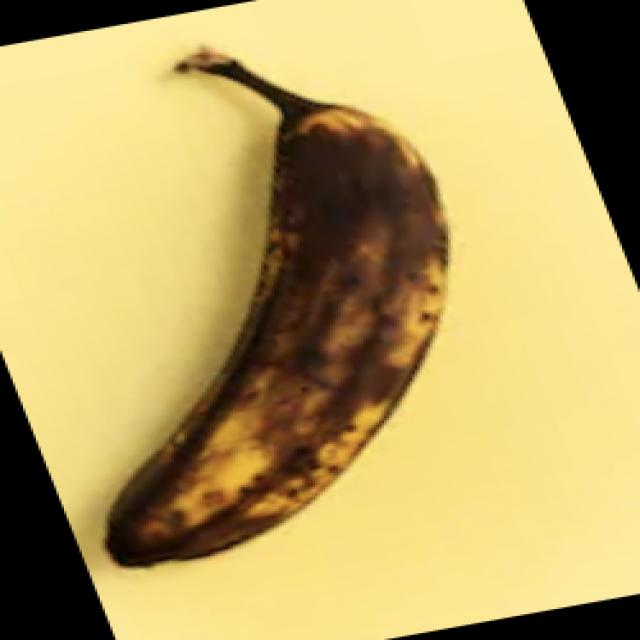overripe: (102, 49, 466, 572)
